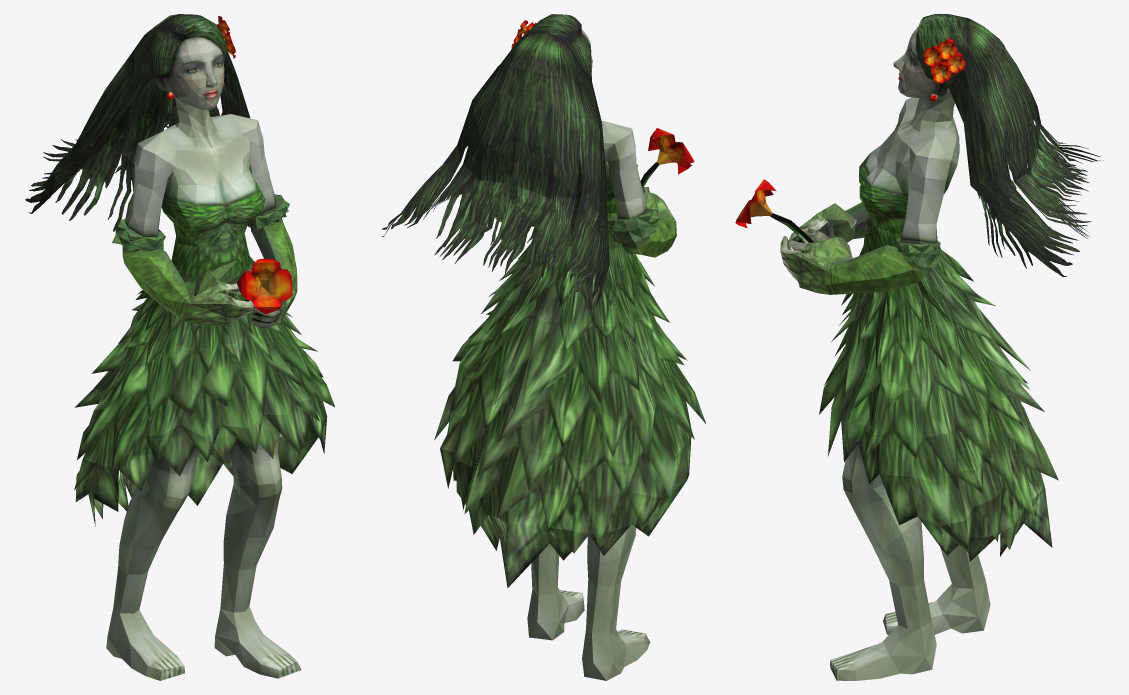
Rendered from Dryad.fbx.
3 views of the same model, side by side, from view 1: azimuth 30°, elevation 25°; view 2: azimuth 150°, elevation 25°; view 3: azimuth 270°, elevation 25° (orthographic).
Visible parts, largest first — view 1: Body, Flower; view 2: Body, Flower; view 3: Body, Flower.
Boxes of the visible parts, <box> form: Body: <box>25,14,334,680</box>; Flower: <box>237,258,292,313</box>; Body: <box>381,14,705,680</box>; Flower: <box>640,128,694,189</box>; Body: <box>780,14,1103,680</box>; Flower: <box>735,179,813,242</box>.
Size of the model in its own units: 604 by 1462 by 789.
Materials: 1 (1 with a texture image).
